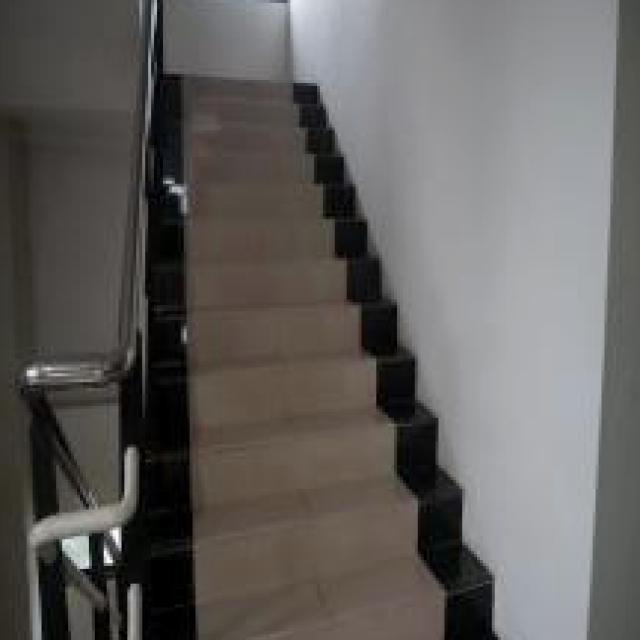upstair: (158, 54, 365, 640)
